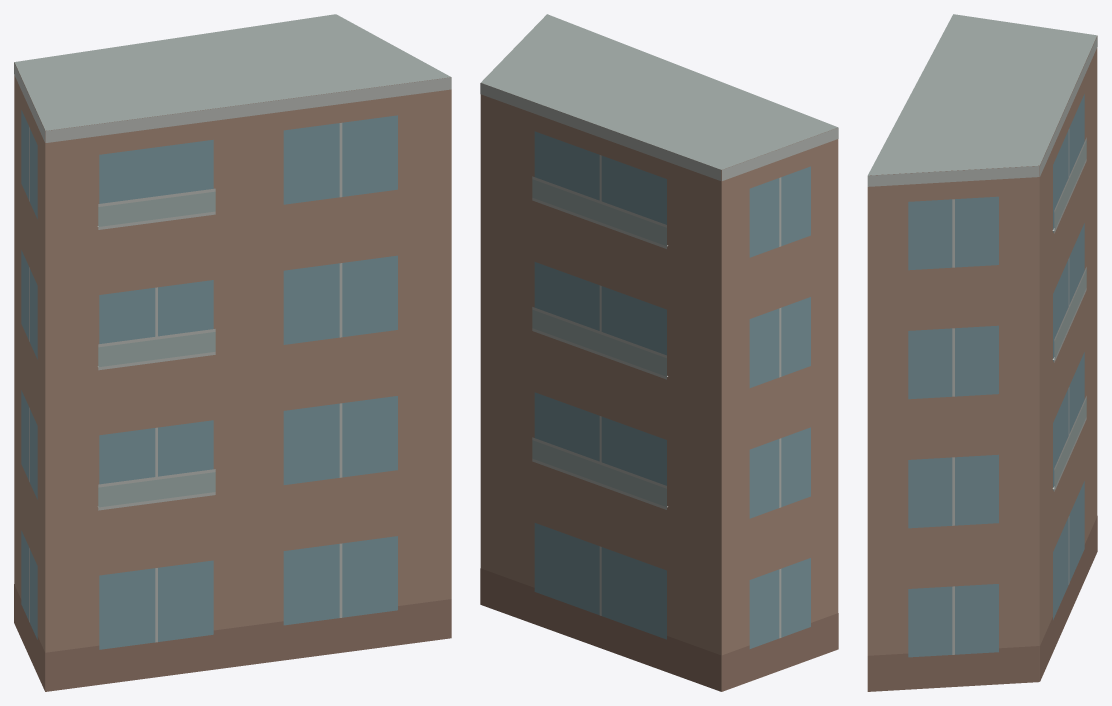
Rendered from survey-upis-32462878.glb.
3 views of the same model, side by side, from view 1: azimuth 30°, elevation 25°; view 2: azimuth 150°, elevation 25°; view 3: azimuth 270°, elevation 25° (orthographic). The views are drawn at different scales.
Visible parts, largest first — view 1: survey-upis-32462878.tmp; view 2: survey-upis-32462878.tmp; view 3: survey-upis-32462878.tmp.
Boxes of the visible parts, x1=… form: survey-upis-32462878.tmp: x1=14, y1=14, x2=451, y2=691; survey-upis-32462878.tmp: x1=480, y1=14, x2=838, y2=691; survey-upis-32462878.tmp: x1=867, y1=14, x2=1097, y2=691.
Size of the model in its own units: 7.46 by 11.1 by 4.49.
